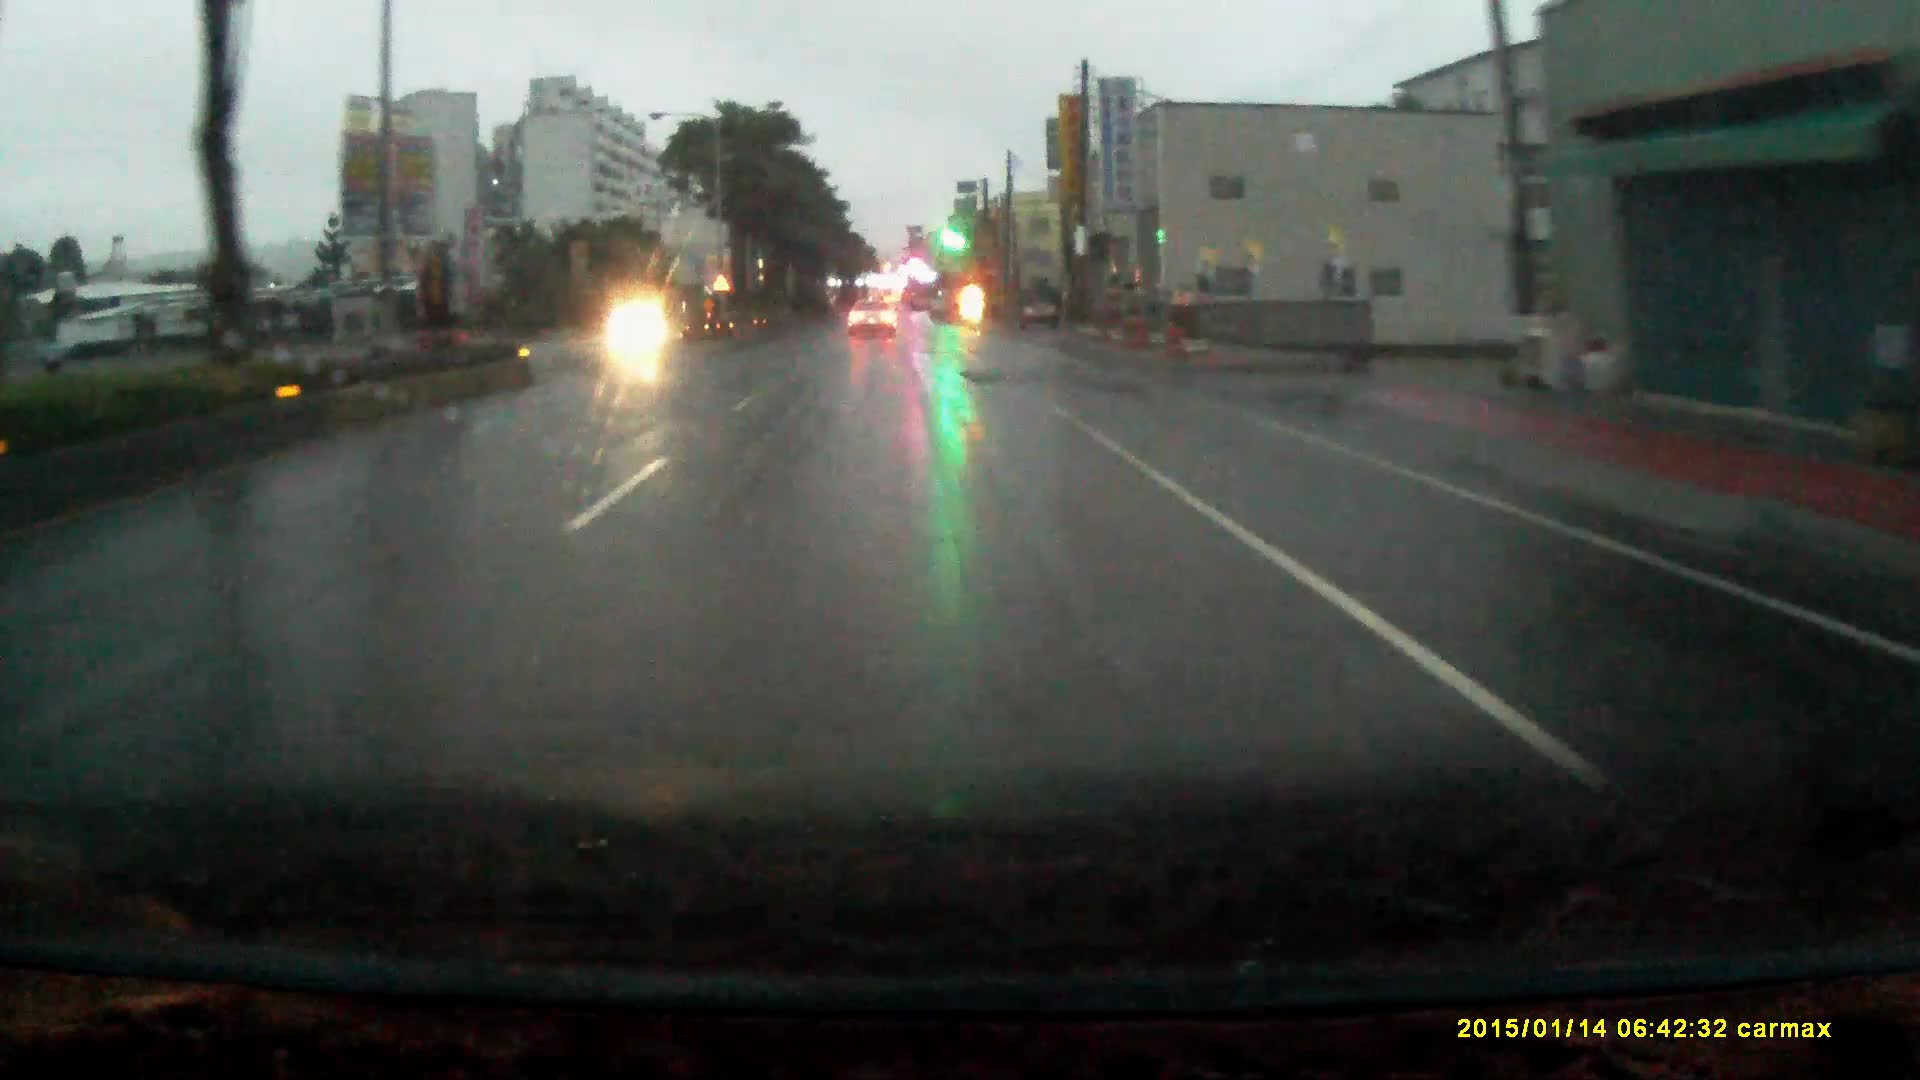vehicle: (847, 295, 898, 334), (1021, 286, 1058, 331)
